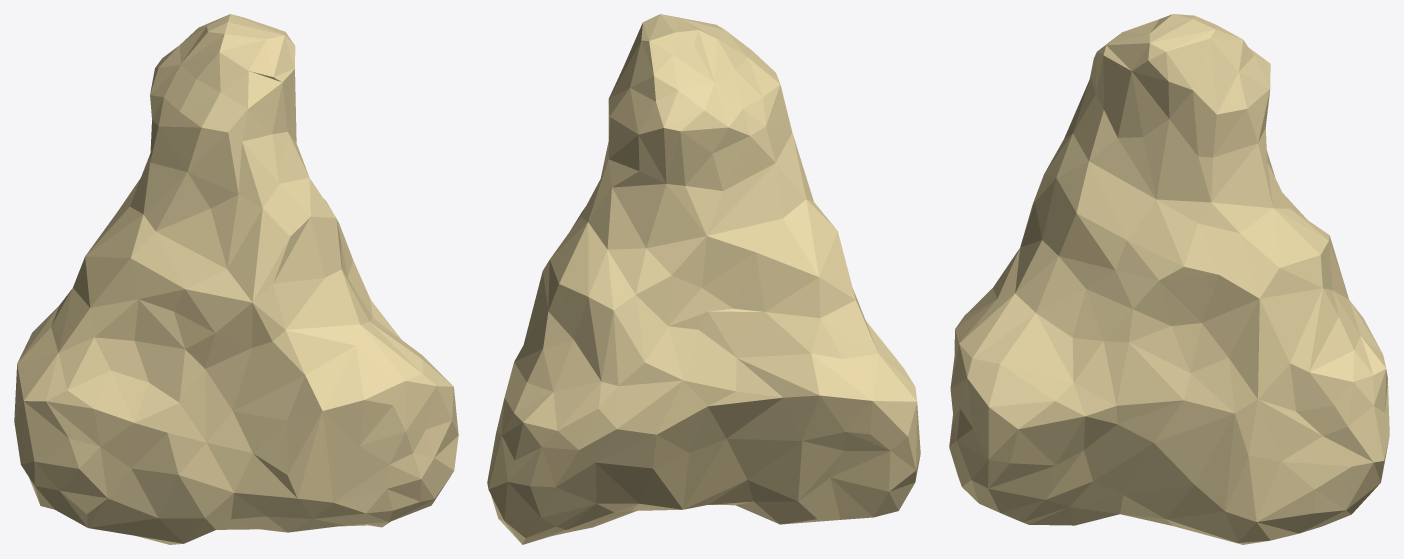
File: Asteroid (17).fbx
3 views of the same model, side by side, from view 1: azimuth 30°, elevation 25°; view 2: azimuth 150°, elevation 25°; view 3: azimuth 270°, elevation 25° (orthographic). The views are drawn at different scales.
Parts seen in each view (by area): view 1: Asteroid202; view 2: Asteroid202; view 3: Asteroid202.
Boxes of the visible parts, x1,y1,x2,y2 form: Asteroid202: [14, 14, 458, 544]; Asteroid202: [487, 14, 920, 544]; Asteroid202: [949, 14, 1389, 544].
Size of the model in its own units: 210 by 267 by 221.
